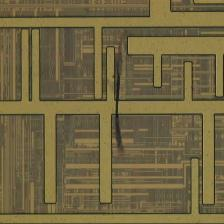SCRATCH: (107, 26, 136, 164)
